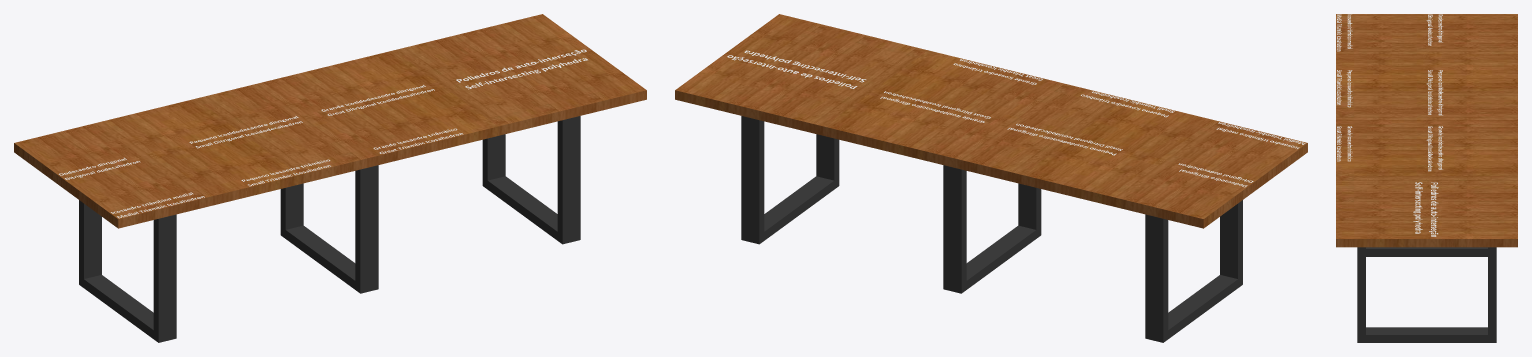
Rendered from mesa_selfIntersect2.glb.
3 views of the same model, side by side, from view 1: azimuth 30°, elevation 25°; view 2: azimuth 150°, elevation 25°; view 3: azimuth 270°, elevation 25° (orthographic). The views are drawn at different scales.
Visible parts, largest first — view 1: object 1, Composant#1 (×3), Poliedros de aut#2; view 2: object 1, Composant#1 (×3), Poliedros de aut#2, Pequeno icosidod; view 3: object 1, Composant#1 (×2), Poliedros de aut#2, Grande icosidode, Pequeno icosidod, Pequeno icosaedr, Icosaedro triâmb, Grande icosaedro#1, Dodecaedro ditri.
Part boxes in pixels (x1,y1,x2,y2): object 1: (14,14,646,228); Composant#1 (×3): (79,116,580,342); Poliedros de aut#2: (456,49,587,89); object 1: (675,14,1307,228); Composant#1 (×3): (741,116,1242,342); Poliedros de aut#2: (727,50,866,88); Pequeno icosidod: (1007,123,1122,155); object 1: (1336,14,1517,247); Composant#1 (×2): (1357,247,1496,342); Poliedros de aut#2: (1413,182,1438,236); Grande icosidode: (1426,126,1443,171); Pequeno icosidod: (1427,70,1443,115); Pequeno icosaedr: (1337,70,1352,107); Icosaedro triâmb: (1337,14,1352,51); Grande icosaedro#1: (1337,126,1352,161); Dodecaedro ditri: (1426,14,1442,45).
Bounding box in the file's own units: 2.93 × 0.7711 × 1.
3 materials, 1 textured.
